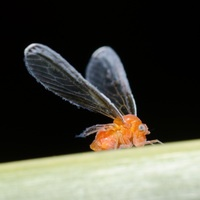insect: (24, 43, 158, 150)
